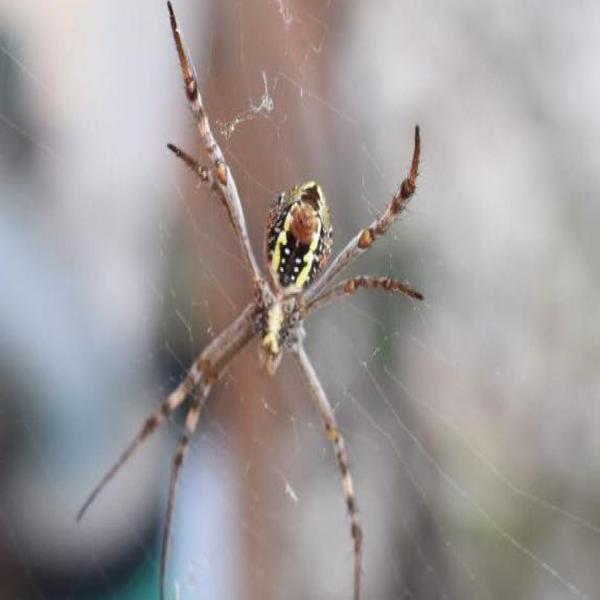St Andrew's Cross Spider: (154, 19, 403, 568)
